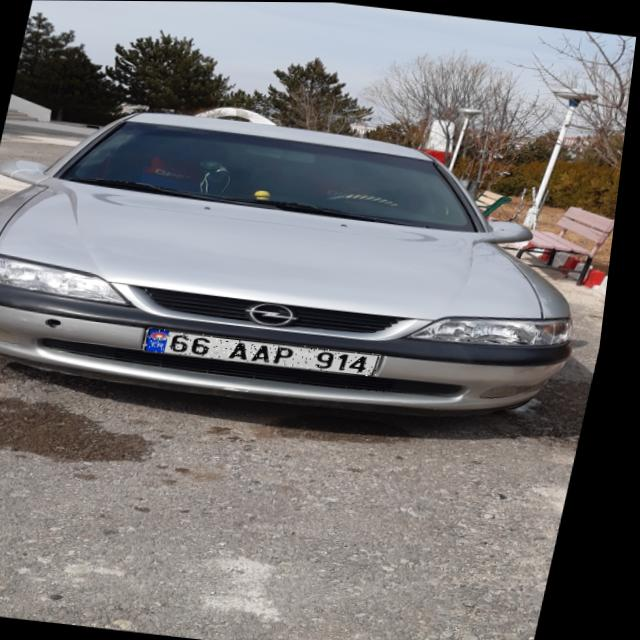plate: (148, 327, 391, 376)
